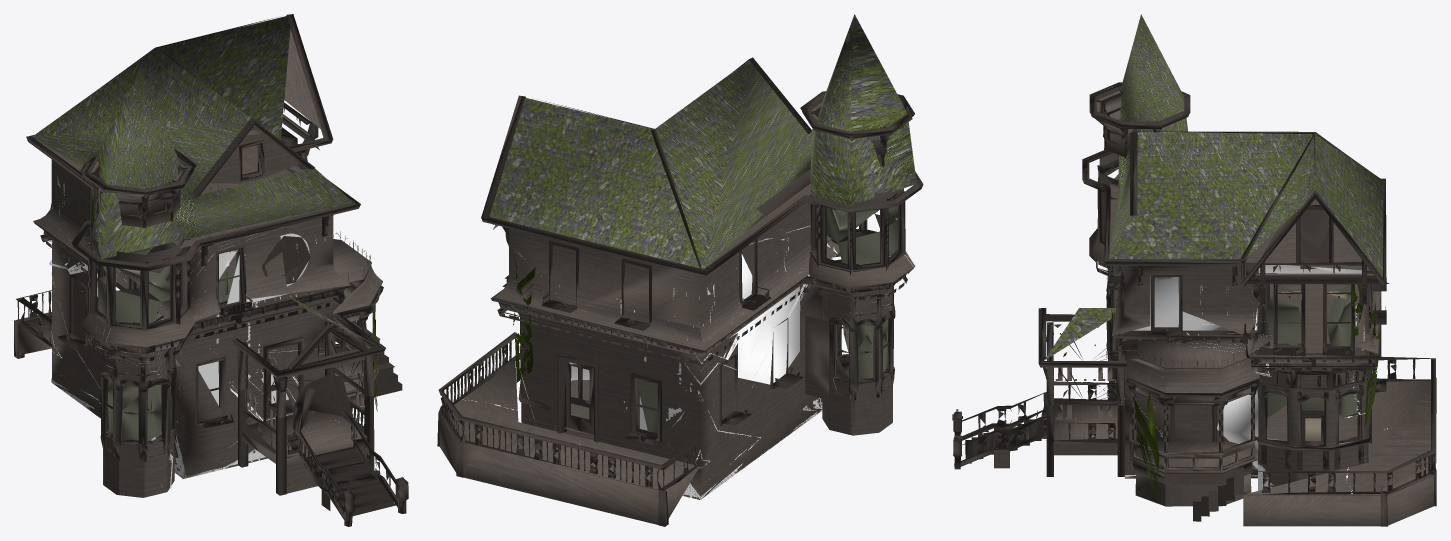
File: gothic.glb
3 renders of one model, left to right at view 1: azimuth 30°, elevation 25°; view 2: azimuth 150°, elevation 25°; view 3: azimuth 270°, elevation 25°, orthographic. The views are drawn at different scales.
Parts seen in each view (by area): view 1: 0_Generic_Wood_Generique_Wood_0, 0_Generic_Chassis_Generique_Chassis_0, 0_Generic_Roof_Generique_Roof_0, 0_Rideau_Rideau_0, 0_Decals_Decal_0, 0_Generic_WhiteWall__0; view 2: 0_Generic_Wood_Generique_Wood_0, 0_Generic_Roof_Generique_Roof_0, 0_Generic_Chassis_Generique_Chassis_0, 0_Generic_WhiteWall__0, 0_Rideau_Rideau_0, 0_Decals_Decal_0, 0_Ivy_Ivy_0; view 3: 0_Generic_Wood_Generique_Wood_0, 0_Generic_Chassis_Generique_Chassis_0, 0_Generic_Roof_Generique_Roof_0, 0_Generic_WhiteWall__0, 0_Rideau_Rideau_0, 0_Ivy_Ivy_0, 0_Decoration_blanches_Blanc_0, 0_Decals_Decal_0.
Part boxes in pixels (x1,y1,x2,y2): 0_Generic_Wood_Generique_Wood_0: (17, 29, 382, 510); 0_Generic_Chassis_Generique_Chassis_0: (14, 14, 408, 526); 0_Generic_Roof_Generique_Roof_0: (32, 16, 374, 344); 0_Rideau_Rideau_0: (97, 242, 235, 441); 0_Decals_Decal_0: (44, 176, 339, 488); 0_Generic_WhiteWall__0: (81, 233, 309, 415); 0_Generic_Wood_Generique_Wood_0: (439, 103, 914, 524); 0_Generic_Roof_Generique_Roof_0: (489, 14, 916, 269); 0_Generic_Chassis_Generique_Chassis_0: (437, 57, 923, 526); 0_Generic_WhiteWall__0: (569, 254, 800, 430); 0_Rideau_Rideau_0: (638, 206, 897, 433); 0_Decals_Decal_0: (459, 225, 913, 499); 0_Ivy_Ivy_0: (513, 252, 535, 382); 0_Generic_Wood_Generique_Wood_0: (994, 90, 1435, 526); 0_Generic_Chassis_Generique_Chassis_0: (952, 82, 1436, 526); 0_Generic_Roof_Generique_Roof_0: (1044, 14, 1382, 360); 0_Generic_WhiteWall__0: (1133, 265, 1361, 469); 0_Rideau_Rideau_0: (1114, 174, 1357, 436); 0_Ivy_Ivy_0: (1134, 284, 1379, 503); 0_Decoration_blanches_Blanc_0: (1105, 167, 1349, 440); 0_Decals_Decal_0: (1092, 267, 1387, 493).
Bounding box in the file's own units: 8.25 × 9.42 × 10.76.
11 materials, 7 textured.
